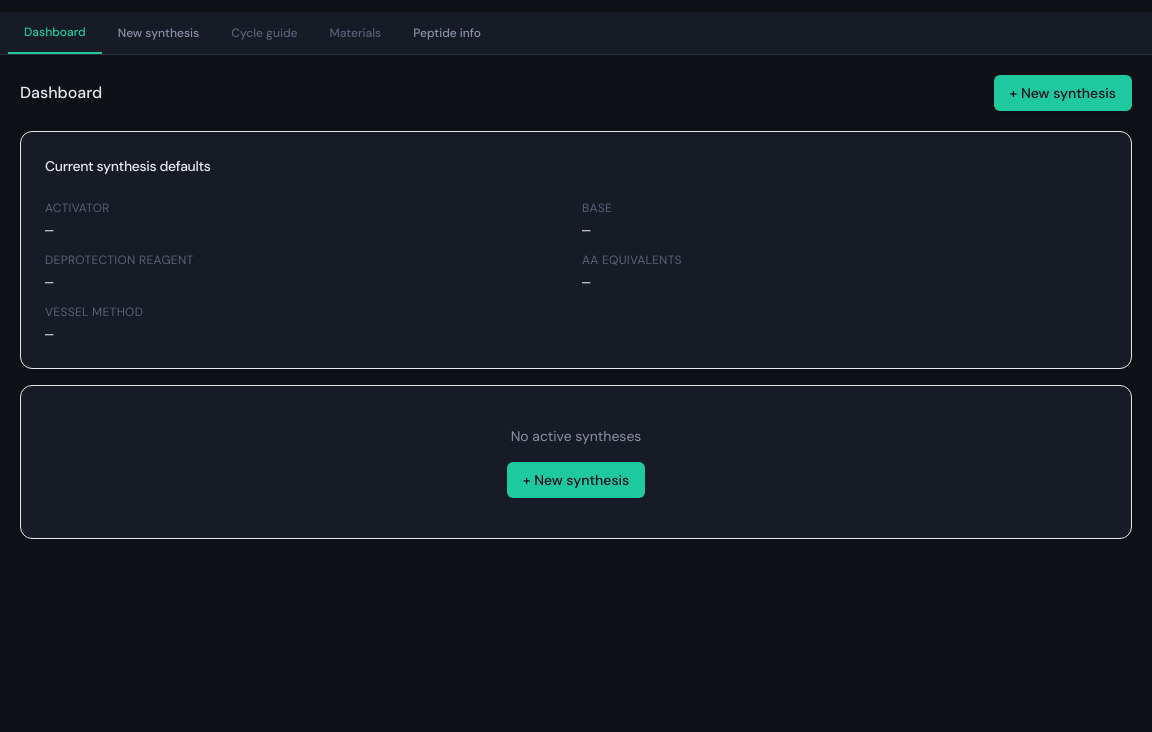
Test: App › clicking the Peptide info tab shows the stub view
Check: the heading "Dashboard" is shown, box [20,81,102,105]
Click the button "Peptide info".
click(447, 33)  # box [397,12,497,54]
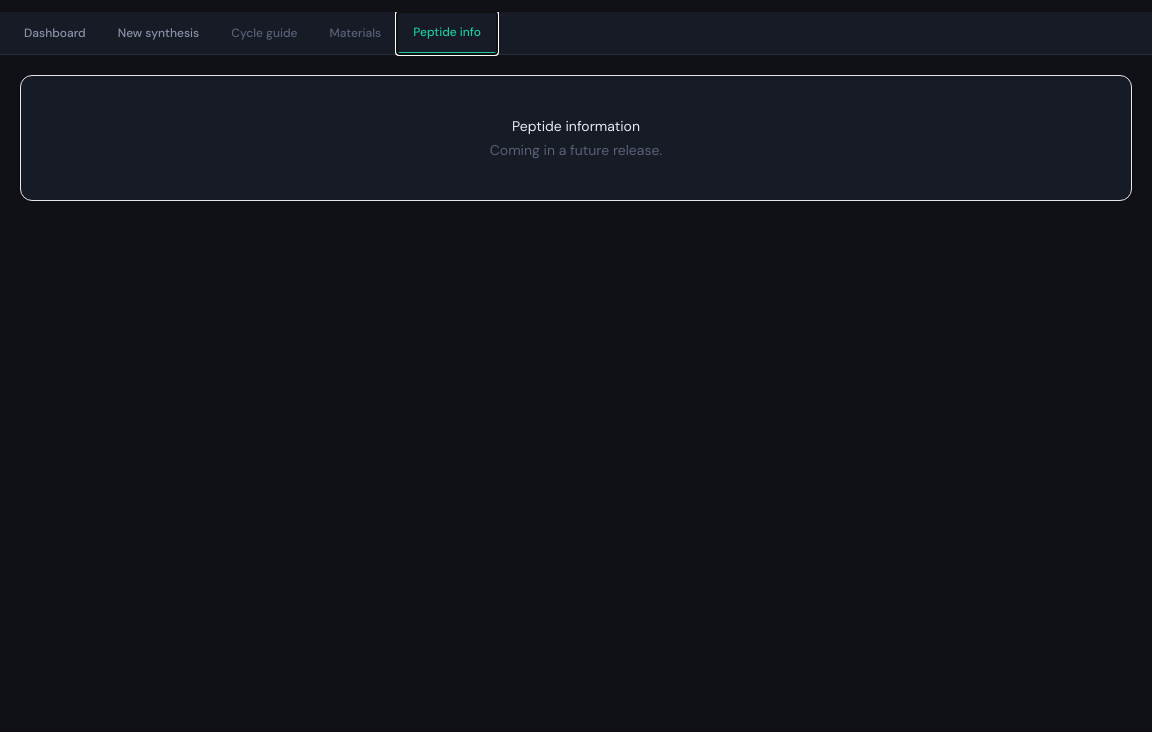
Check: the text "Coming in a future release." is shown, box [490,140,662,160]
